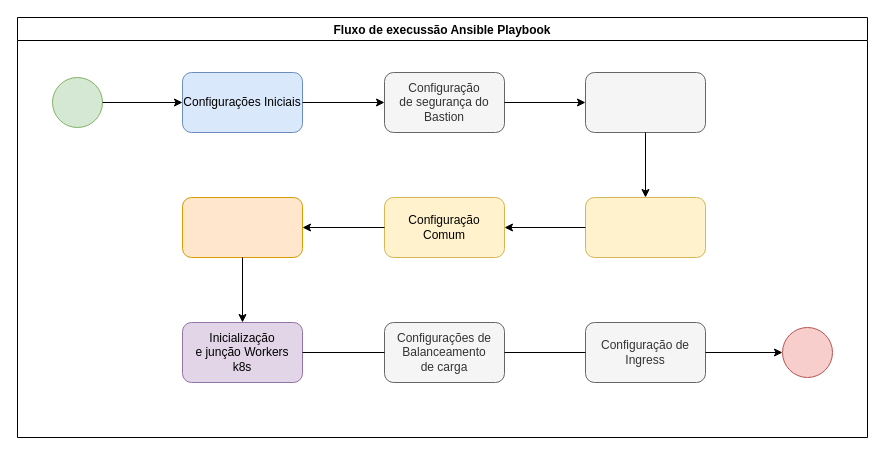
The diagram is 885 pixels wide and 455 high, and some of its shapes have lost their labels. The box of each missing label's shape, as (x1, y1, x2, y2) in pixels:
Configurações Inicial HAProxy: (584, 72, 706, 132)
Inicialização Control-Plane K8s: (182, 196, 302, 258)
Instalação de requisitos do kubernetes: (584, 196, 706, 258)
